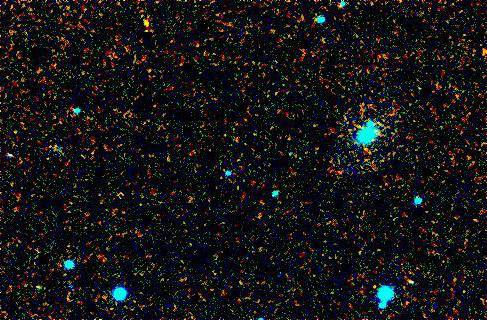star: (132, 9, 162, 39)
